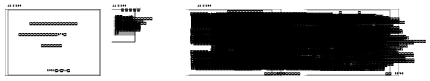corridor: (403, 70, 412, 73), (394, 70, 403, 73)
door: (367, 54, 372, 59), (366, 62, 370, 66), (365, 58, 368, 62), (367, 61, 369, 63), (368, 61, 369, 63), (368, 52, 369, 53), (368, 60, 369, 61), (368, 59, 369, 60), (366, 58, 367, 59), (368, 63, 369, 64), (398, 45, 399, 46), (398, 37, 399, 38), (356, 26, 356, 26), (354, 18, 354, 19), (354, 19, 354, 19), (356, 28, 356, 28), (369, 29, 370, 29), (368, 54, 368, 55), (368, 60, 369, 60), (400, 12, 403, 12)
room: (394, 7, 403, 14), (379, 70, 387, 73), (343, 70, 351, 73), (336, 70, 343, 73), (351, 70, 358, 73), (372, 70, 379, 73), (387, 70, 394, 73), (358, 70, 365, 73), (365, 70, 372, 73)
